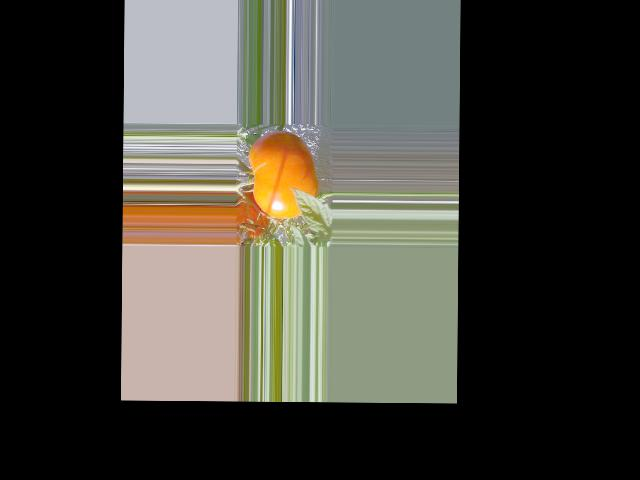tomato: (248, 131, 318, 219)
